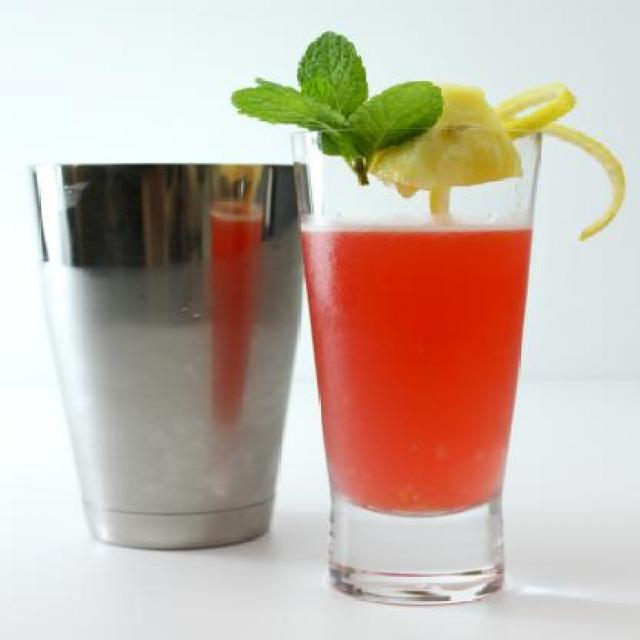Juice: (296, 220, 533, 518)
